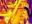Hotspot: (0, 0, 29, 23)
